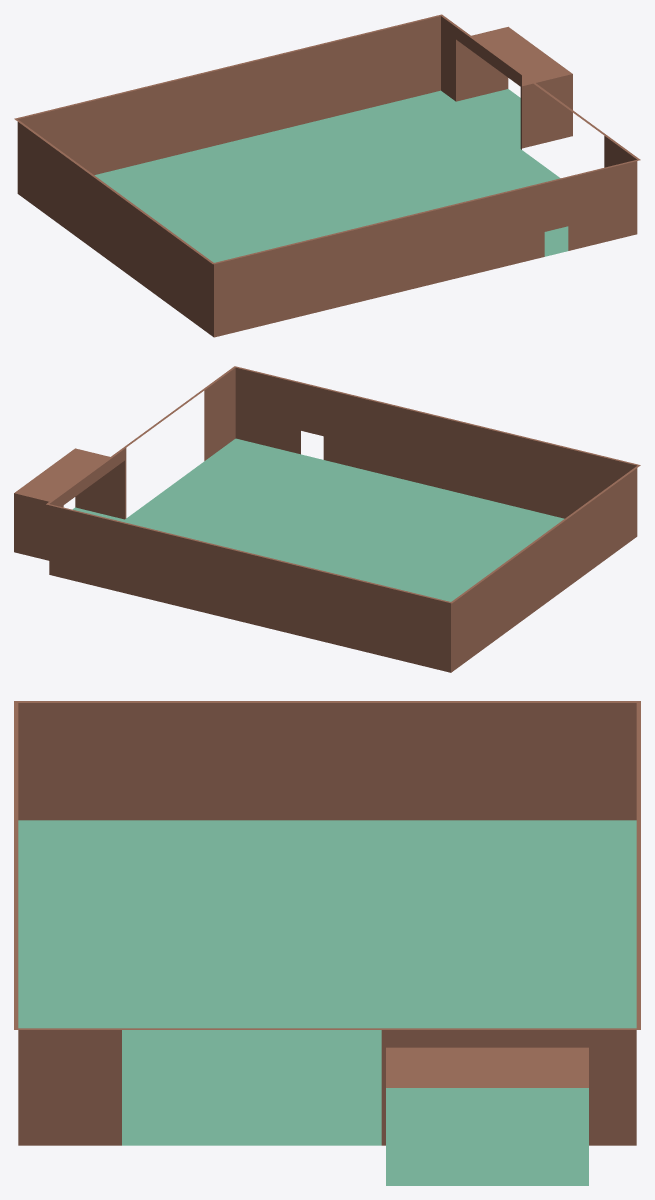
The model's file is SM_geo_ArcadeRoom.fbx.
3 renders of one model, top to bottom at view 1: azimuth 30°, elevation 25°; view 2: azimuth 150°, elevation 25°; view 3: azimuth 270°, elevation 25°, orthographic. The views are drawn at different scales.
Visible parts, largest first — view 1: ArcadeRoom; view 2: ArcadeRoom; view 3: ArcadeRoom.
Boxes of the visible parts, x1,y1,x2,y2 form: ArcadeRoom: (14, 14, 640, 337); ArcadeRoom: (14, 366, 640, 672); ArcadeRoom: (14, 701, 640, 1185).
Size of the model in its own units: 2010 by 1450 by 300.
